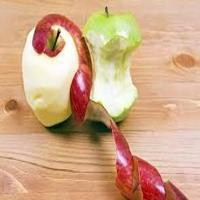biodegradable: (21, 13, 93, 134), (83, 10, 142, 123), (112, 136, 190, 200)
